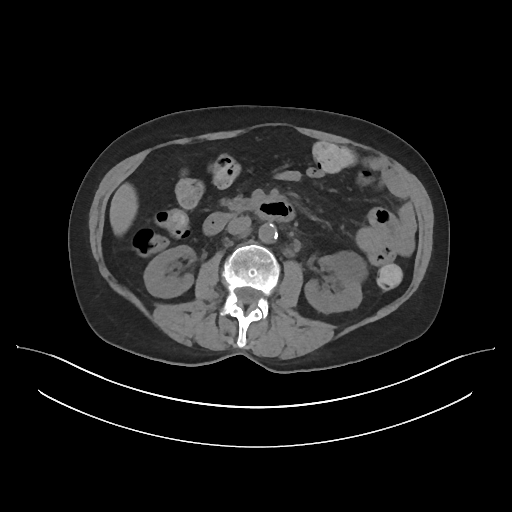Lesion: (315, 247, 372, 286)
